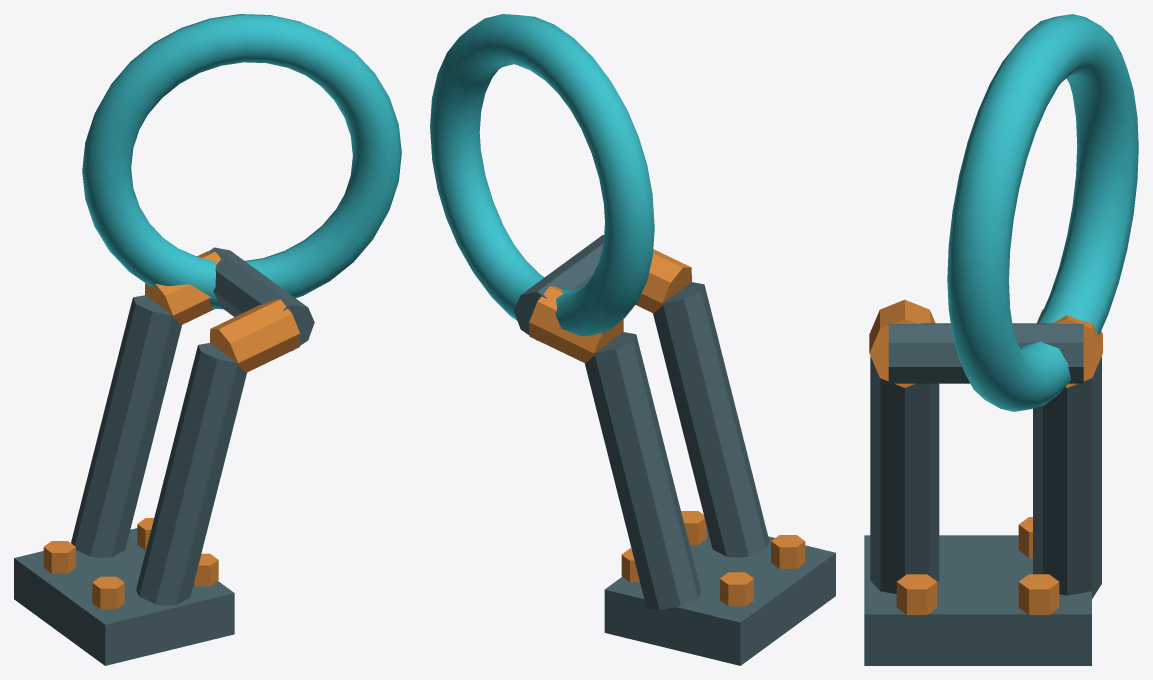
File: w7a-summit-outboard-ring.glb
3 renders of one model, left to right at view 1: azimuth 30°, elevation 25°; view 2: azimuth 150°, elevation 25°; view 3: azimuth 270°, elevation 25°, orthographic. The views are drawn at different scales.
Parts seen in each view (by area): view 1: W7a summit outboard ring; view 2: W7a summit outboard ring; view 3: W7a summit outboard ring.
Boxes of the visible parts, left/top/right/bottom form: W7a summit outboard ring: left=14, top=14, right=401, bottom=665; W7a summit outboard ring: left=430, top=14, right=835, bottom=665; W7a summit outboard ring: left=864, top=14, right=1138, bottom=665.
Bounding box in the file's own units: 1.2 × 1.86 × 0.6755.
